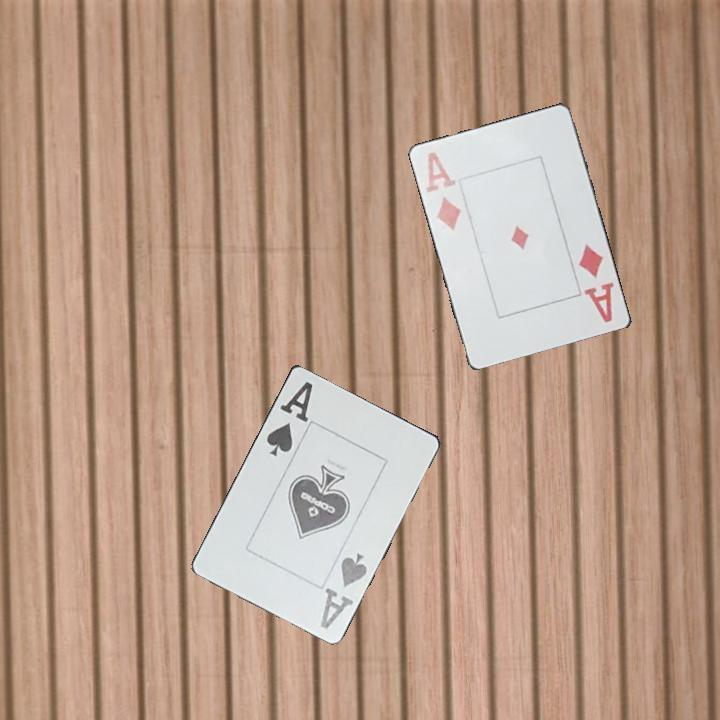Ad: (574, 240, 617, 326), (422, 148, 465, 234)
As: (316, 550, 370, 632), (263, 377, 316, 459)
